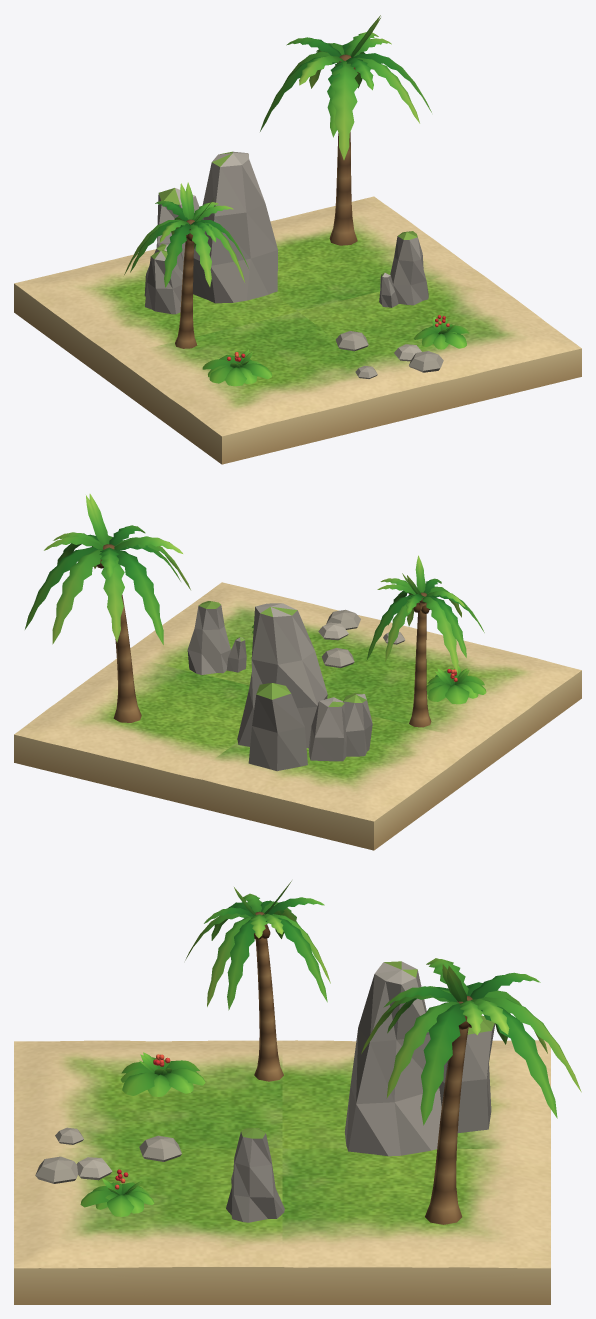
The model's file is Land_Rocks.obj.
3 renders of one model, top to bottom at view 1: azimuth 30°, elevation 25°; view 2: azimuth 150°, elevation 25°; view 3: azimuth 270°, elevation 25°, orthographic. The views are drawn at different scales.
Parts seen in each view (by area): view 1: Land_Rocks_Land_Rocks_Terrain, Land_Rocks_Palette; view 2: Land_Rocks_Palette, Land_Rocks_Land_Rocks_Terrain; view 3: Land_Rocks_Land_Rocks_Terrain, Land_Rocks_Palette.
Part boxes in pixels (x1,y1,x2,y2): Land_Rocks_Land_Rocks_Terrain: (14, 196, 581, 436); Land_Rocks_Palette: (14, 15, 581, 464); Land_Rocks_Palette: (14, 494, 581, 850); Land_Rocks_Land_Rocks_Terrain: (14, 582, 581, 821); Land_Rocks_Land_Rocks_Terrain: (14, 1040, 550, 1268); Land_Rocks_Palette: (14, 881, 581, 1304).
Bounding box in the file's own units: 4.11 × 2.62 × 4.23.
2 materials, 2 textured.
